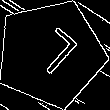L_SW: (22, 24, 80, 83)
